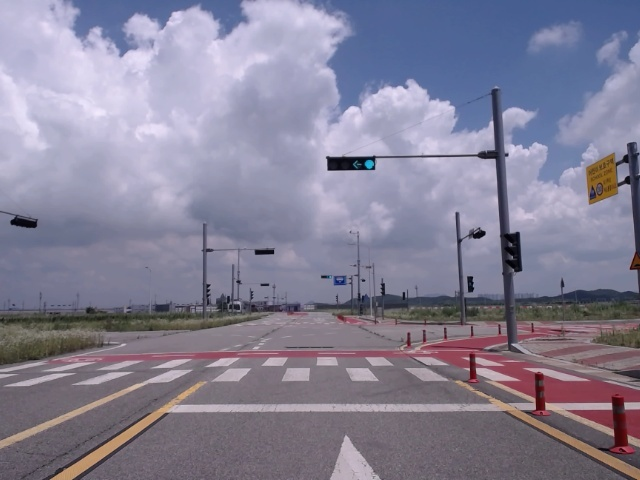all_green_4: (331, 157, 379, 174)
